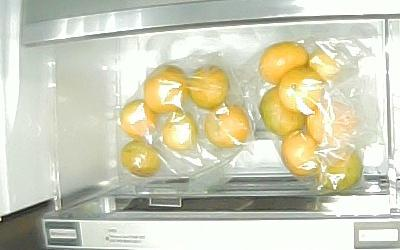tangerine_vinyl: (307, 98, 361, 148), (260, 86, 309, 135), (316, 147, 363, 195), (279, 67, 323, 114), (144, 66, 187, 114), (205, 103, 251, 147), (282, 129, 326, 175), (258, 43, 308, 83), (189, 66, 231, 109), (121, 139, 161, 177), (120, 101, 158, 140), (163, 113, 199, 151), (310, 51, 343, 84)
